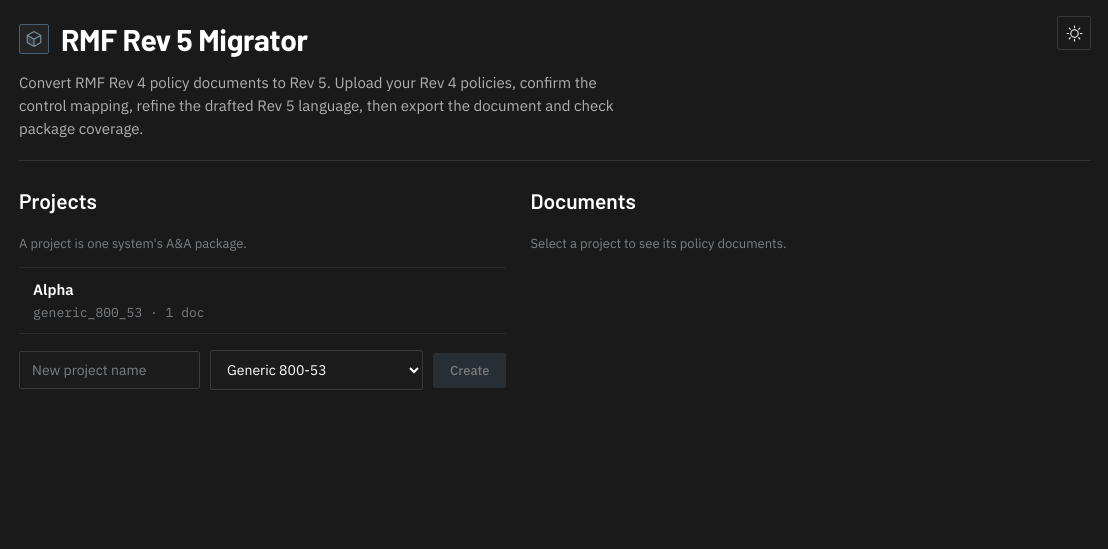
Test case: Failed document reasons › keeps Open available when a document failed after parsing
What coordinates should you click on to do the following:
click the button "Alpha generic_800_53 · 1 doc"
I would click on:
 (53, 289)
Its box is x1=19 y1=268 x2=506 y2=333.
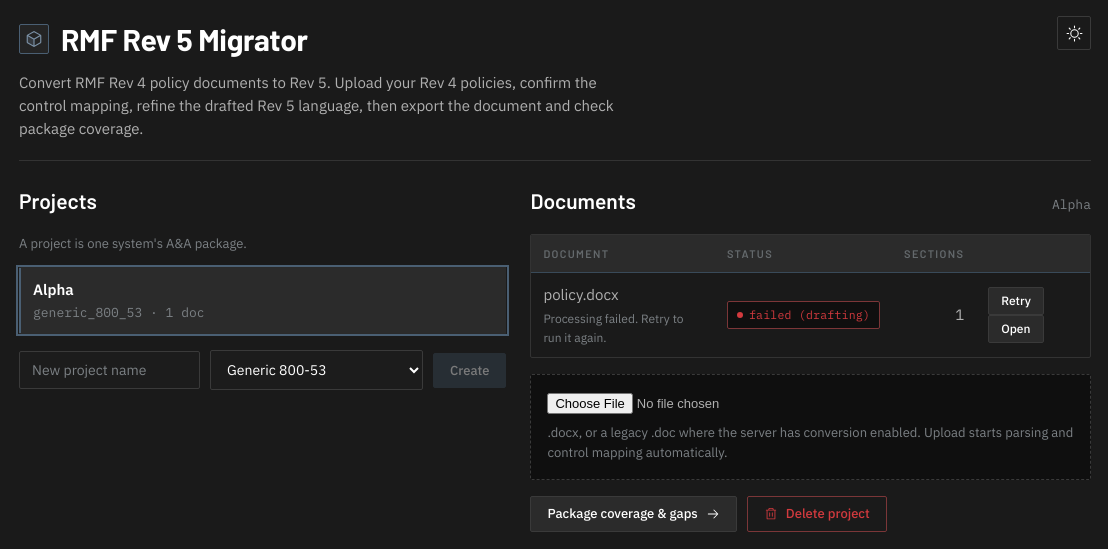
Expected: the button "Open" is enabled, x1=988 y1=315 x2=1044 y2=343
